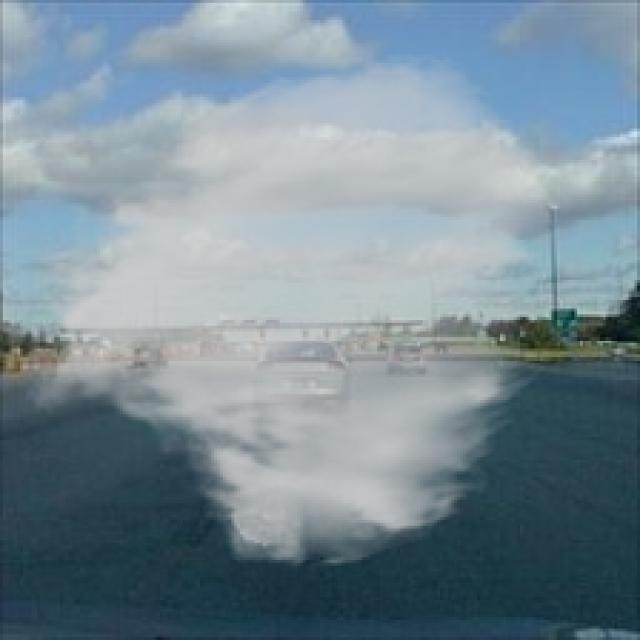smoke: (23, 49, 557, 572)
